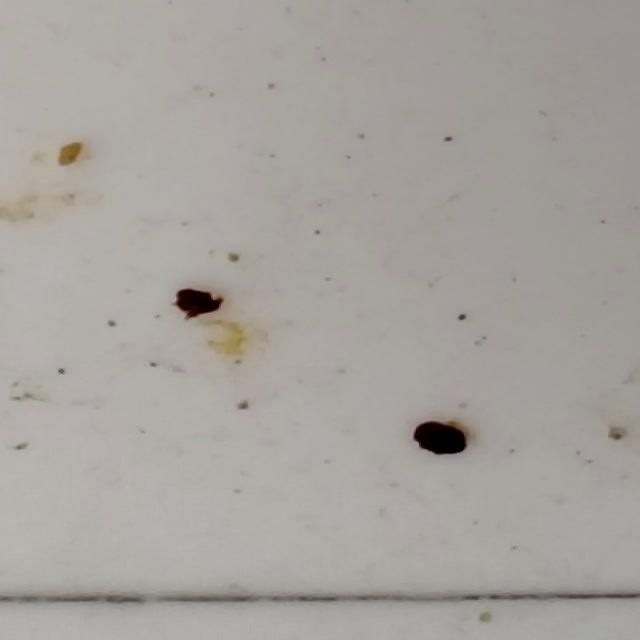varroa: (411, 420, 470, 460)
